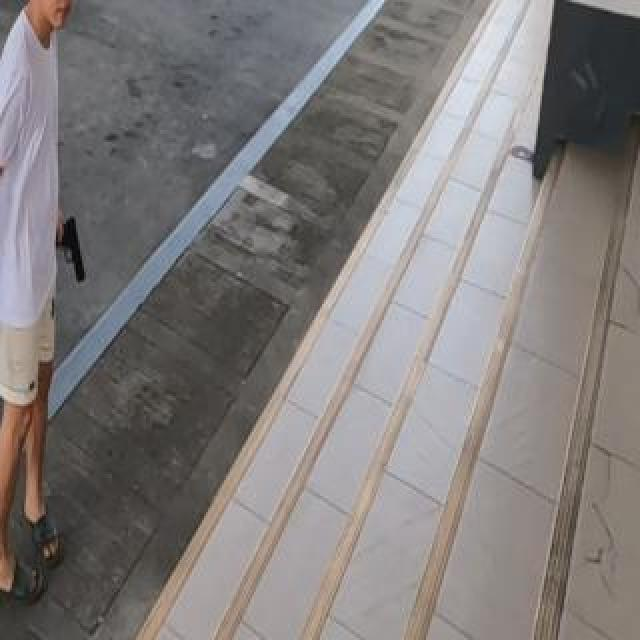Guns: (50, 210, 91, 287)
